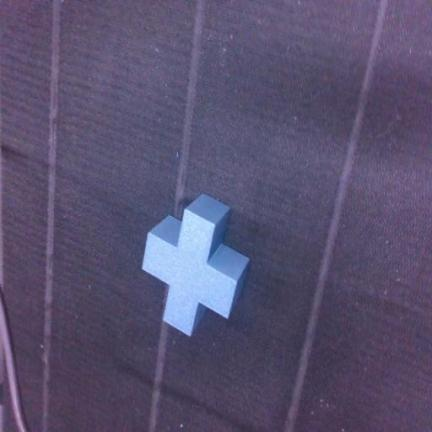cross: (143, 195, 248, 335)
